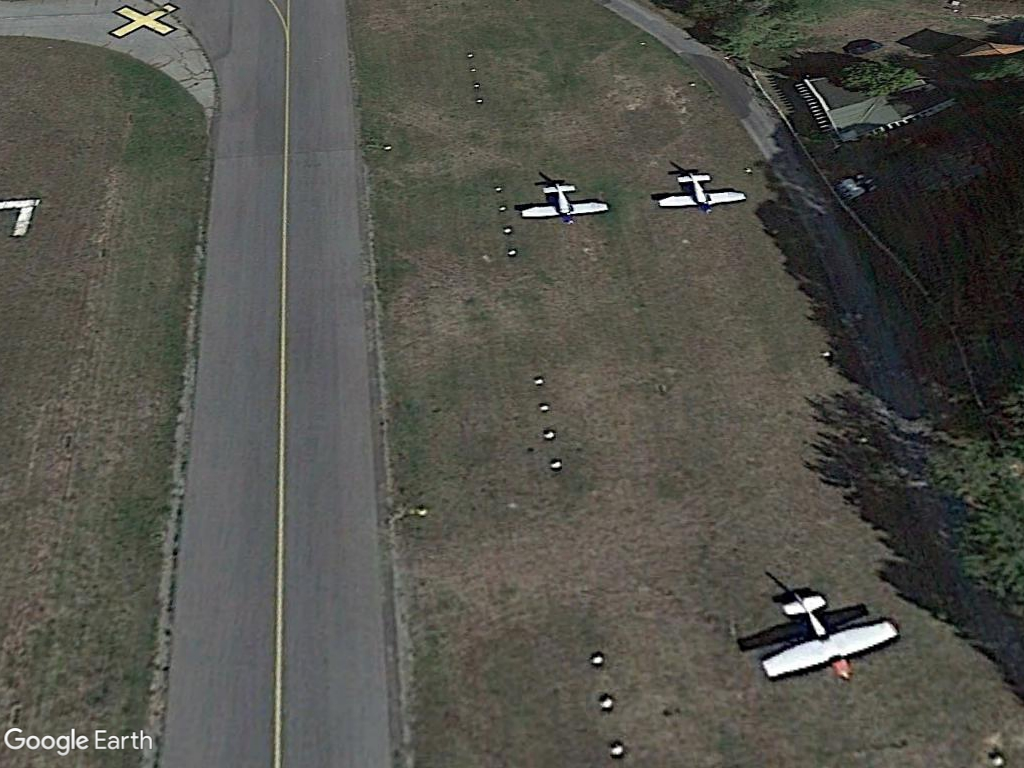trainer: (754, 591, 905, 687), (519, 180, 611, 227), (652, 172, 749, 215)
